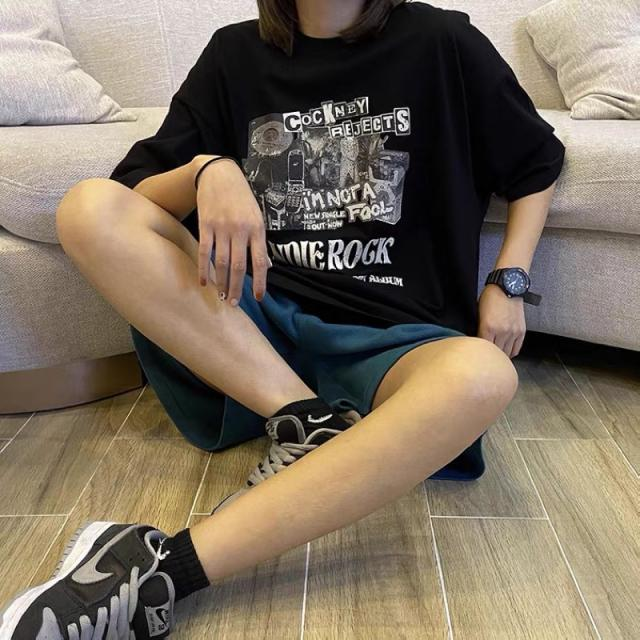Shirt: (107, 5, 572, 332)
